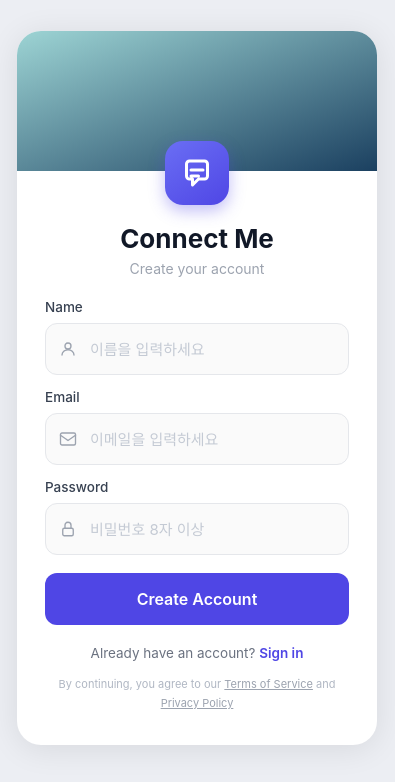
Test: RegisterPage › 비밀번호 8자 미만 시 유효성 오류를 표시한다
Type "홍길동" into the field with placeholder "이름을 입력하세요" at x=197, y=349, box [45,323,349,375]
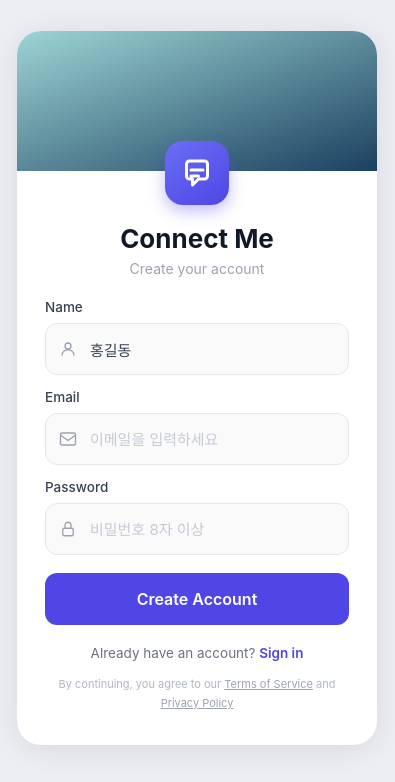
Type "test@email.com" into the field with placeholder "이메일을 입력하세요" at x=197, y=439, box [45,413,349,465]
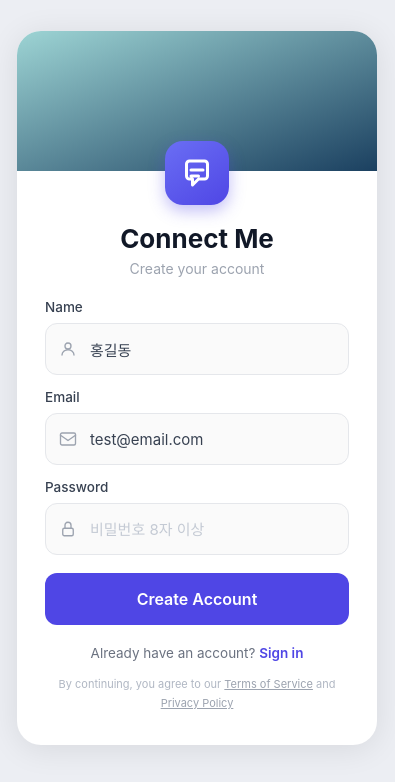
Type "1234567" into the password field with placeholder "비밀번호 8자 이상" at x=197, y=529, box [45,503,349,555]
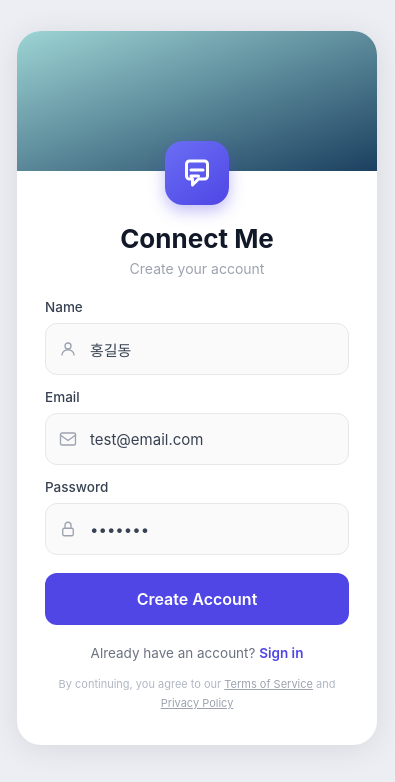
Click the button "Create Account" at x=197, y=599, box [45,573,349,625]
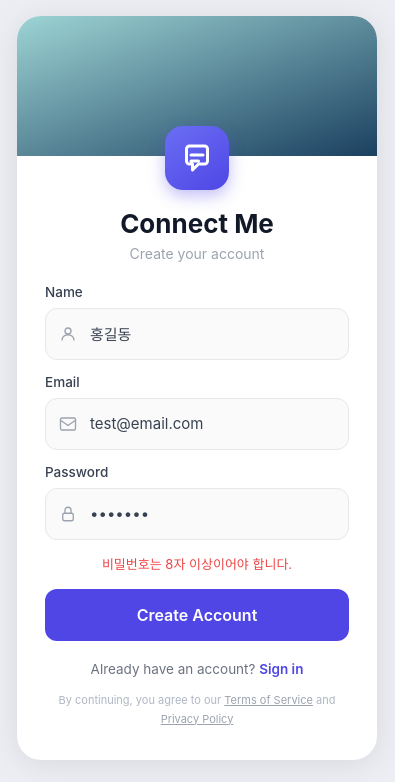
Now the text "비밀번호는 8자 이상이어야 합니다." is shown, box [102,556,292,572]
